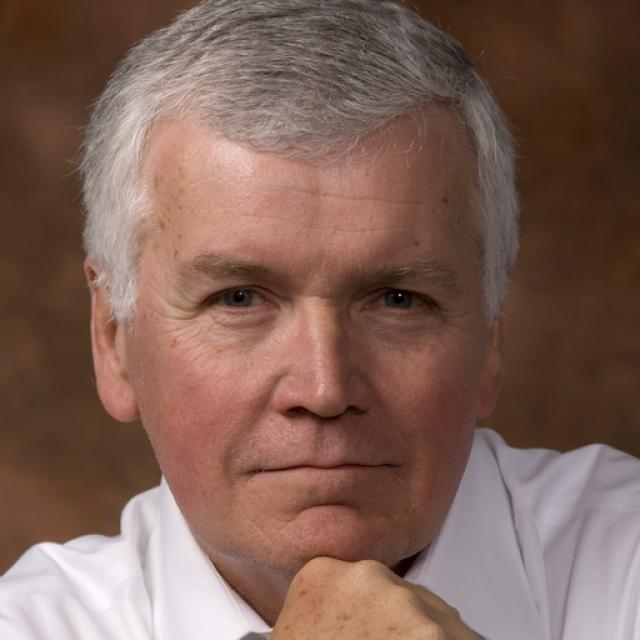neutral: (132, 108, 488, 566)
